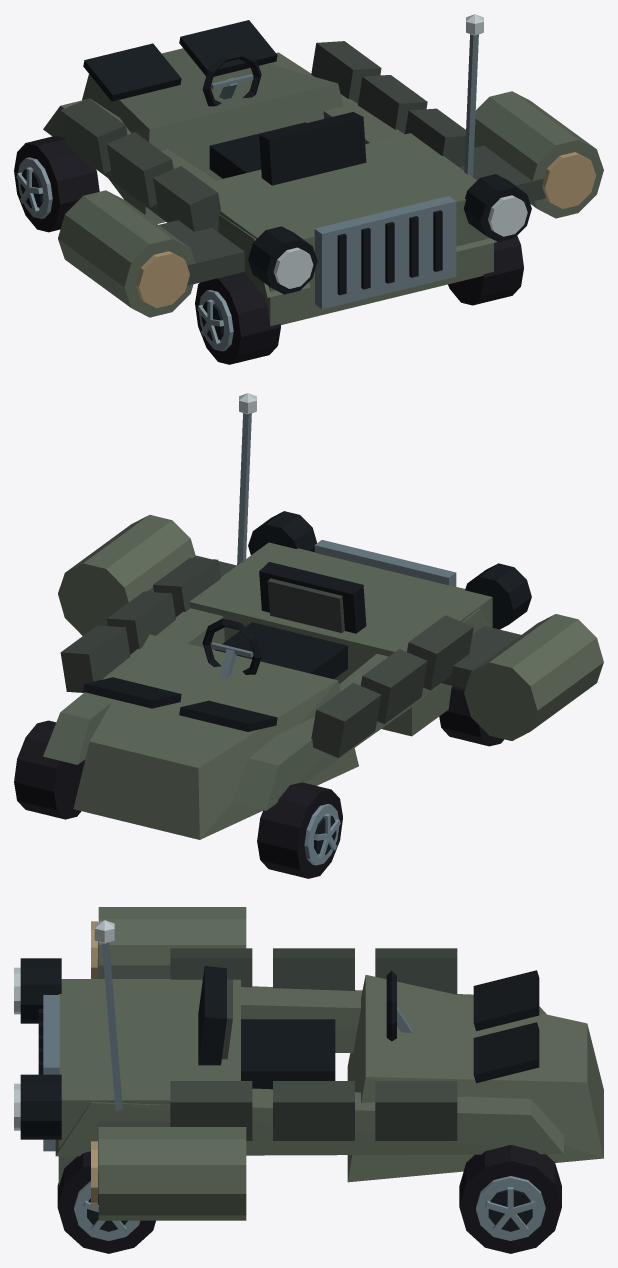
File: kart.glb
The picture shows the model from 3 angles, top to bottom: view 1: azimuth 30°, elevation 25°; view 2: azimuth 150°, elevation 25°; view 3: azimuth 270°, elevation 25°; orthographic projection. The views are drawn at different scales.
Visible parts, largest first — view 1: identity-dropship-dropship-armored-cargo-fuselage, identity-dropship-motif-armor, identity-dropship-driver-cockpit, identity-dropship-motif-thrusters, wheel-rear-left, wheel-front-left, wheel-rear-right, identity-dropship-motif-antenna; view 2: identity-dropship-dropship-armored-cargo-fuselage, identity-dropship-motif-armor, identity-dropship-driver-cockpit, wheel-front-left, identity-dropship-motif-thrusters, wheel-front-right, identity-dropship-motif-antenna, wheel-rear-left; view 3: identity-dropship-dropship-armored-cargo-fuselage, identity-dropship-motif-armor, identity-dropship-driver-cockpit, wheel-front-right, identity-dropship-motif-thrusters, wheel-rear-right, identity-dropship-motif-antenna.
Boxes of the visible parts, x1,y1,x2,y2 form: identity-dropship-dropship-armored-cargo-fuselage: (43,20,603,326); identity-dropship-motif-armor: (60,41,465,231); identity-dropship-driver-cockpit: (202,50,366,185); identity-dropship-motif-thrusters: (248,174,531,294); wheel-rear-left: (195,272,280,364); wheel-front-left: (14,135,99,232); wheel-rear-right: (448,236,523,305); identity-dropship-motif-antenna: (464,14,483,176); identity-dropship-dropship-armored-cargo-fuselage: (43,515,603,839); identity-dropship-motif-armor: (60,558,473,757); identity-dropship-driver-cockpit: (202,562,366,679); wheel-front-left: (257,782,342,878); identity-dropship-motif-thrusters: (248,511,531,629); wheel-front-right: (14,720,84,819); identity-dropship-motif-antenna: (237,393,256,565); wheel-rear-left: (439,686,504,746); identity-dropship-dropship-armored-cargo-fuselage: (38,907,603,1220); identity-dropship-motif-armor: (170,948,457,1140); identity-dropship-driver-cockpit: (198,966,412,1089); wheel-front-right: (459,1145,561,1253); identity-dropship-motif-thrusters: (14,958,61,1139); wheel-rear-right: (57,1151,155,1253); identity-dropship-motif-antenna: (94,920,122,1110).
Bounding box in the file's own units: 3 × 1.72 × 2.88.
